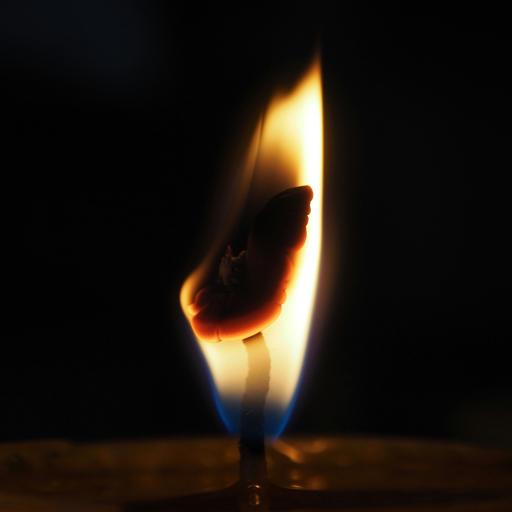candlelight: (175, 57, 328, 512)
